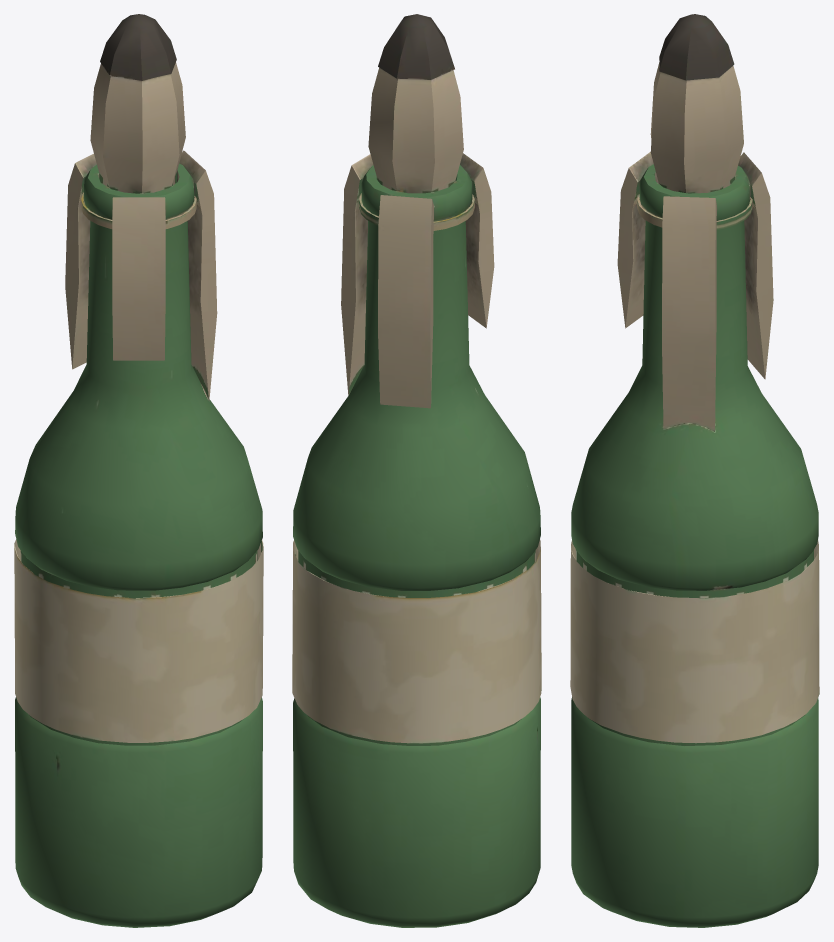
File: coquetel_molotov_leve.glb
3 views of the same model, side by side, from view 1: azimuth 30°, elevation 25°; view 2: azimuth 150°, elevation 25°; view 3: azimuth 270°, elevation 25° (orthographic).
Visible parts, largest first — view 1: coquetel_molotov_leve; view 2: coquetel_molotov_leve; view 3: coquetel_molotov_leve.
Boxes of the visible parts, bbox=[...] form: coquetel_molotov_leve: bbox=[14, 14, 263, 927]; coquetel_molotov_leve: bbox=[292, 14, 541, 927]; coquetel_molotov_leve: bbox=[570, 14, 819, 927].
Bounding box in the file's own units: 0.0685 × 0.2633 × 0.0685.
Materials: 1 (1 with a texture image).
